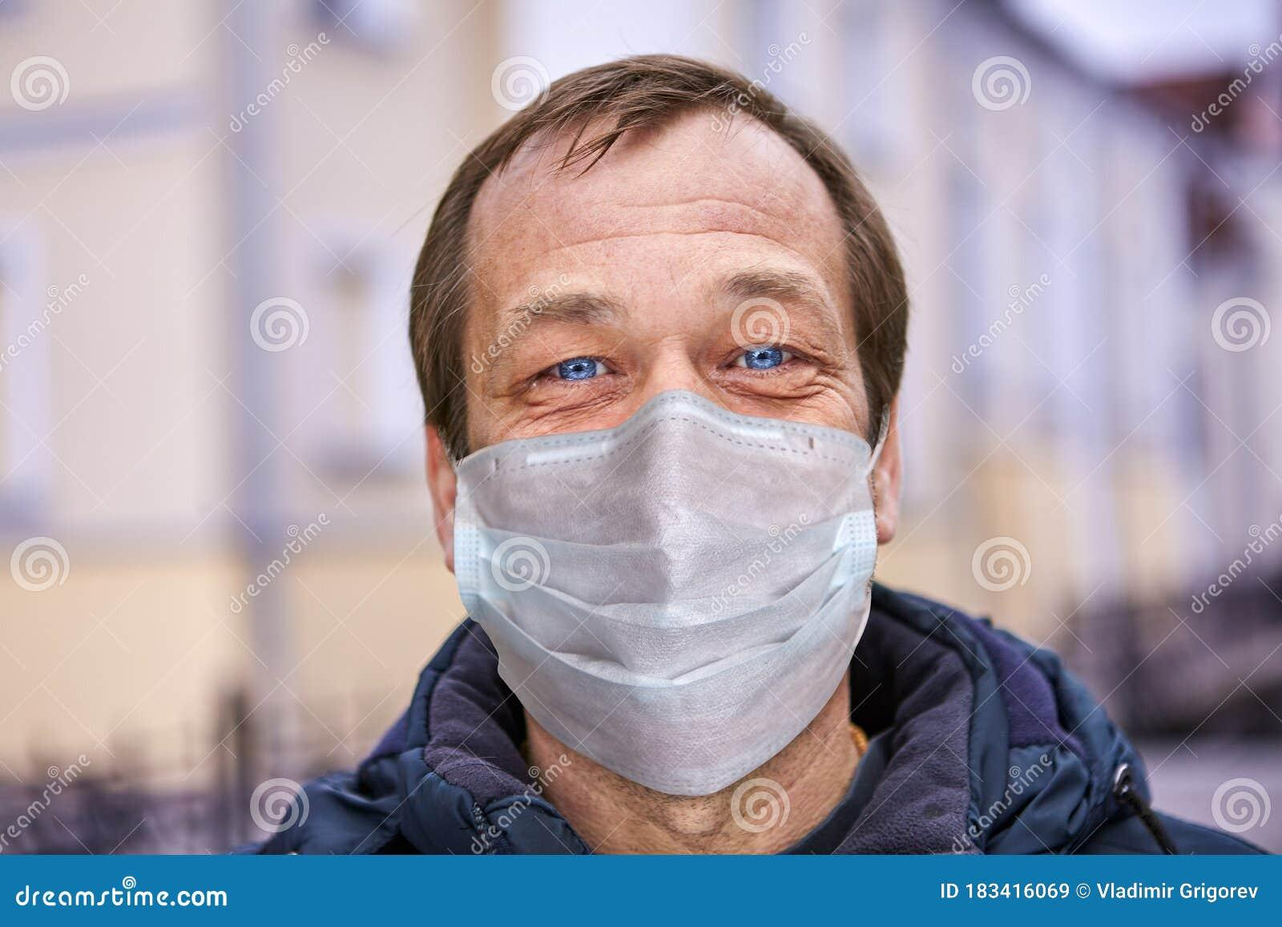mask: (446, 387, 903, 791)
